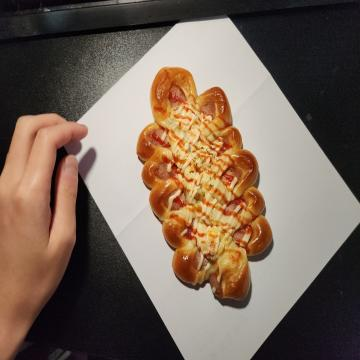pizza_bread: (137, 66, 273, 305)
